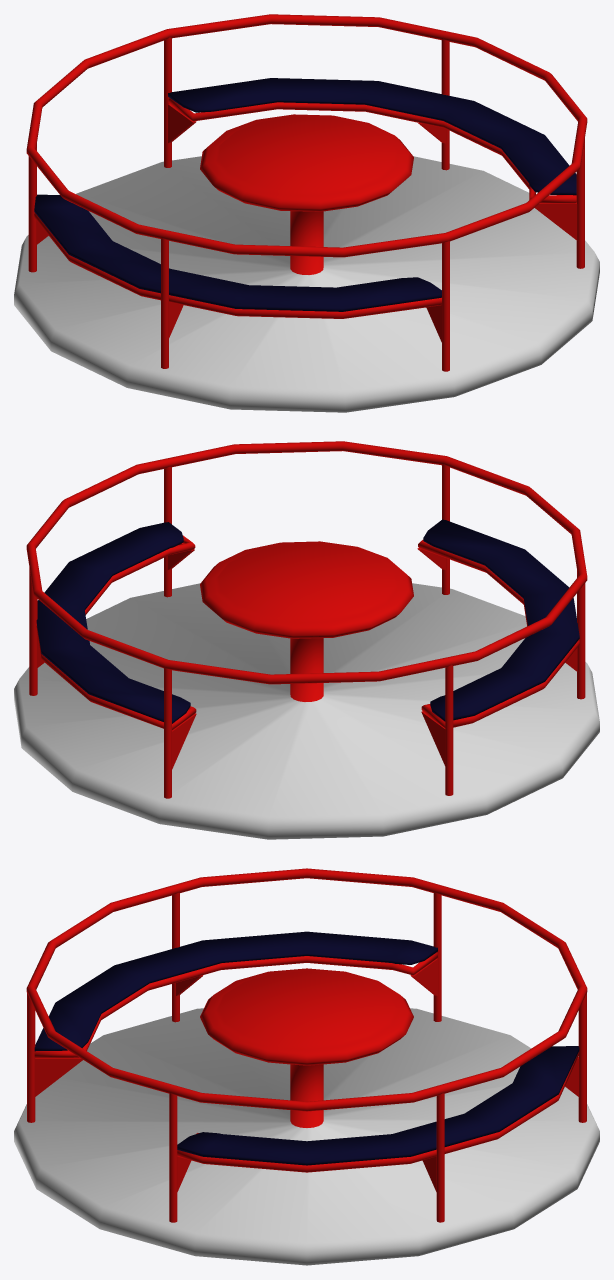
Rendered from Spinner Bench.fbx.
3 views of the same model, one above another, from view 1: azimuth 30°, elevation 25°; view 2: azimuth 150°, elevation 25°; view 3: azimuth 270°, elevation 25° (orthographic).
Parts seen in each view (by area): view 1: Circle.001; view 2: Circle.001; view 3: Circle.001.
Boxes of the visible parts, box(x1,y1,x2,y2) form: Circle.001: box(14, 14, 599, 412); Circle.001: box(14, 441, 599, 839); Circle.001: box(14, 868, 599, 1265).
Size of the model in its own units: 200 by 58.72 by 200.
